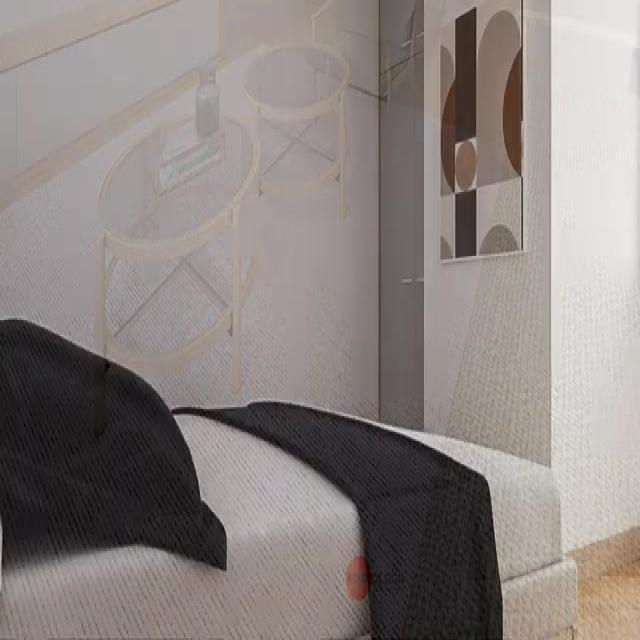obstacle: (0, 316, 578, 638)
